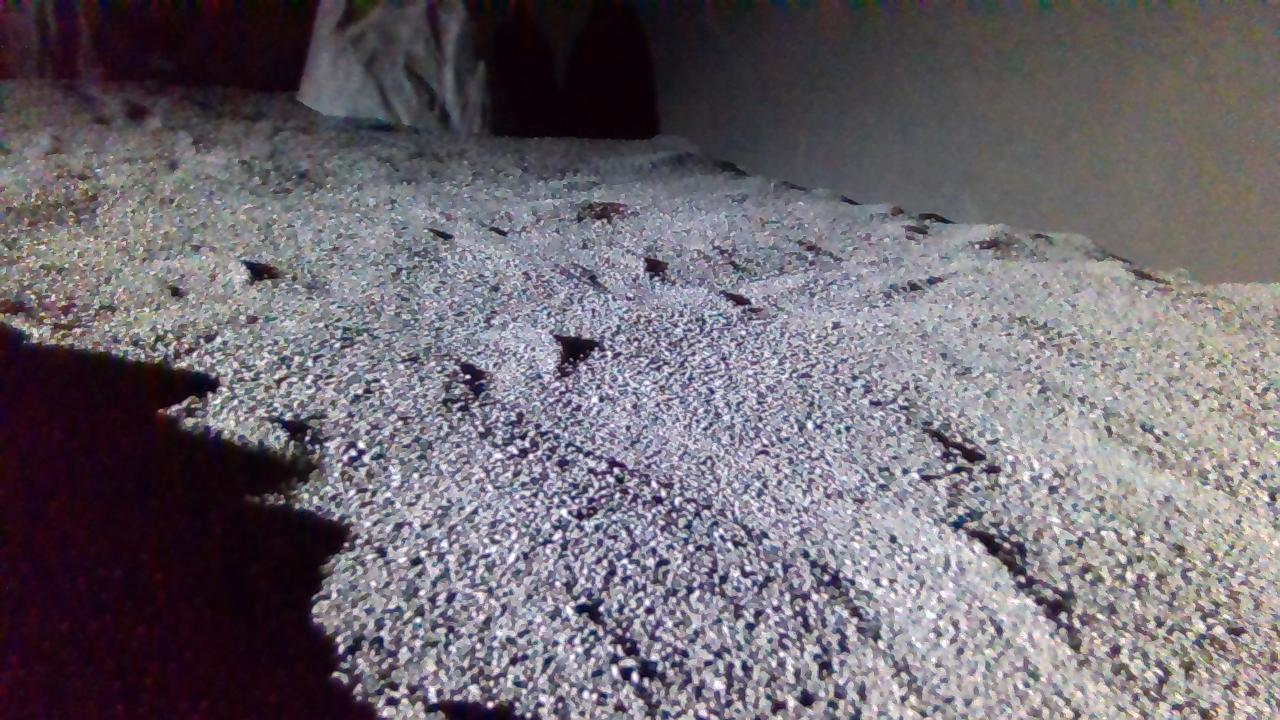rock: (297, 1, 486, 132)
